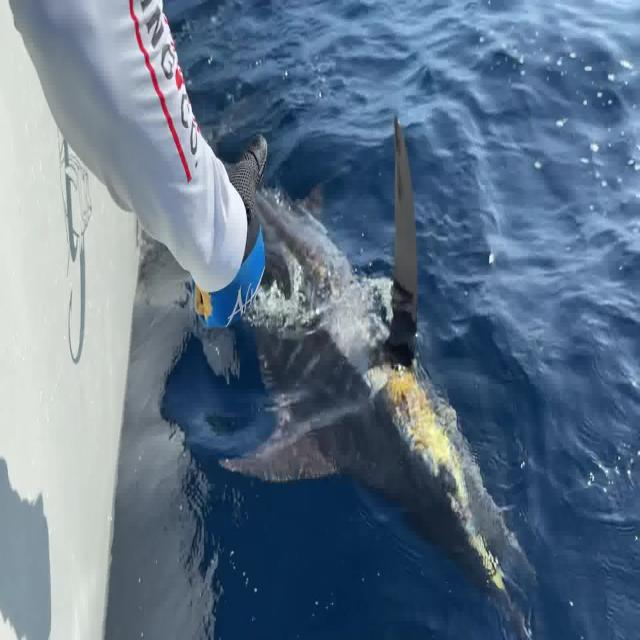Liberacion segura: (216, 113, 539, 640)
